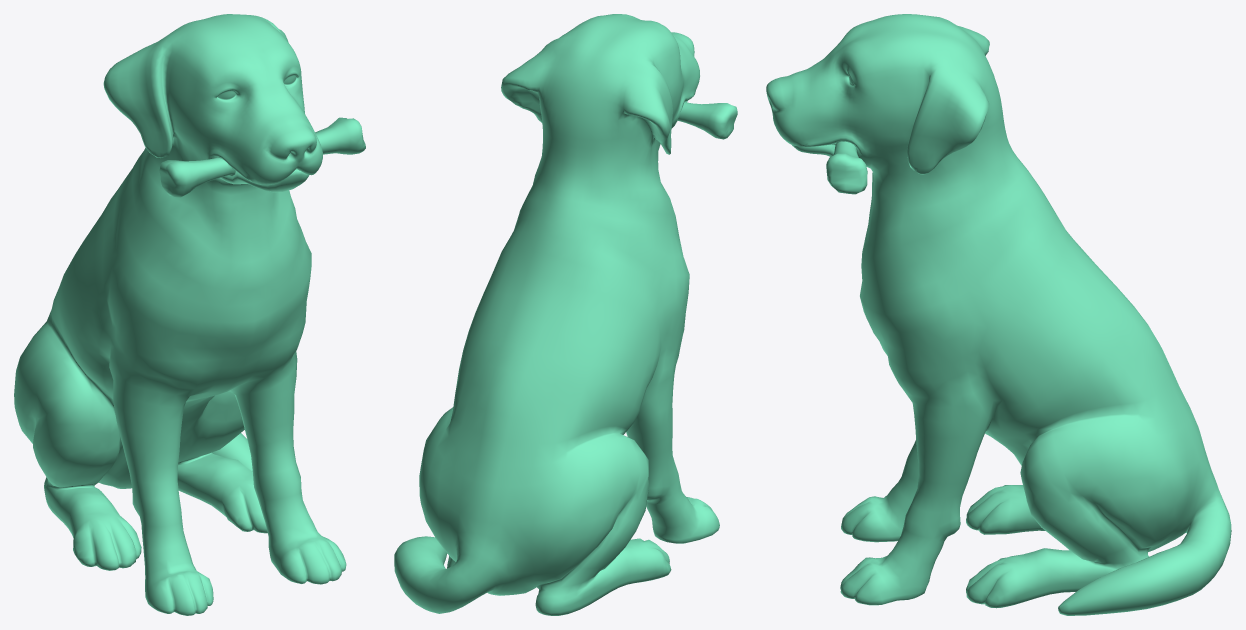
Rendered from perroHueso.glb.
3 views of the same model, side by side, from view 1: azimuth 30°, elevation 25°; view 2: azimuth 150°, elevation 25°; view 3: azimuth 270°, elevation 25° (orthographic). The views are drawn at different scales.
Parts seen in each view (by area): view 1: imagetostl_mesh0; view 2: imagetostl_mesh0; view 3: imagetostl_mesh0.
Part boxes in pixels (box(x1,y1,x2,y2)): imagetostl_mesh0: box(14, 14, 365, 615); imagetostl_mesh0: box(394, 14, 737, 615); imagetostl_mesh0: box(766, 14, 1231, 615).
Bounding box in the file's own units: 18.97 × 42.66 × 33.55.
